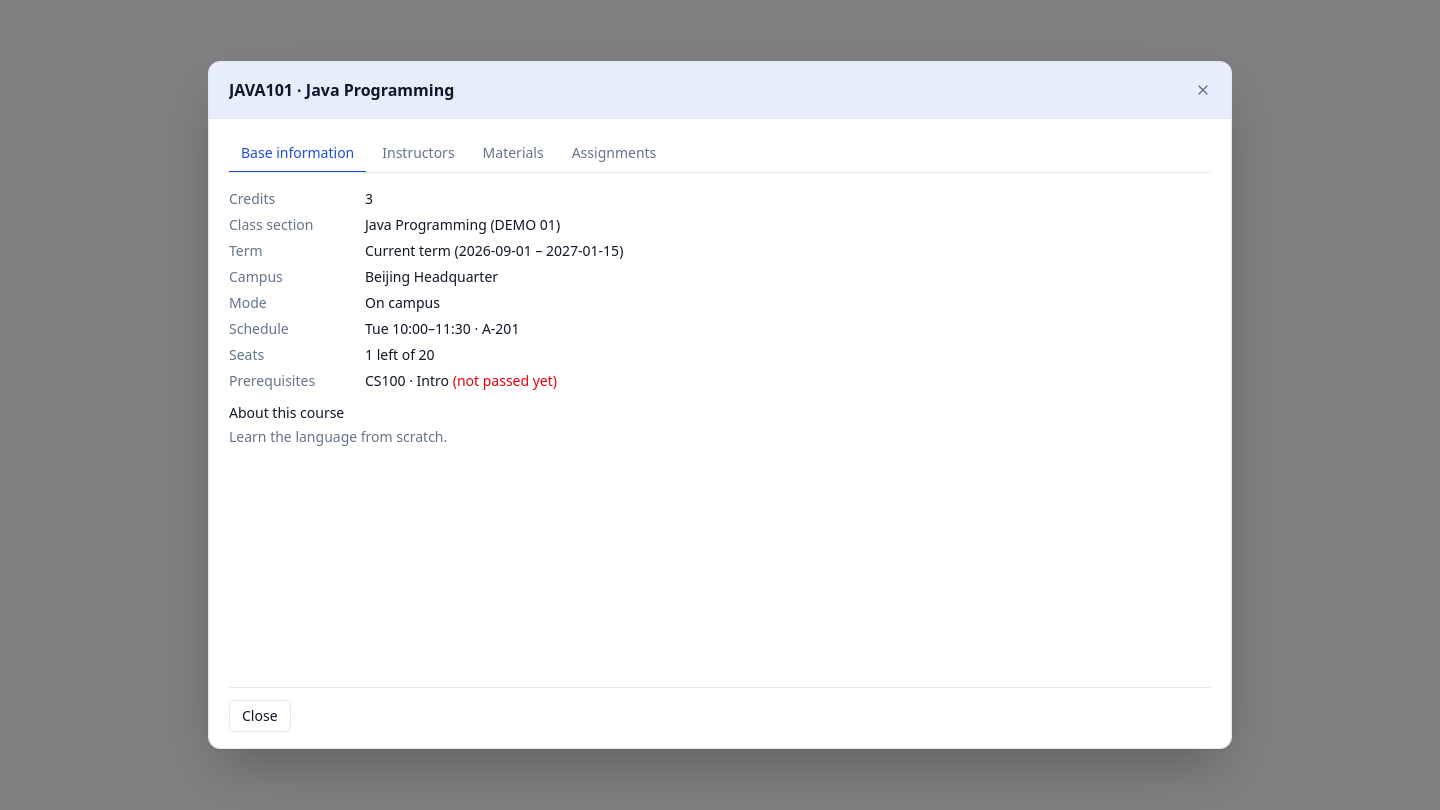
Test case: course details for students › for an enrolled class the dialog has four tabs: base information, instructors, materials and assignments of this class
Click the tab "Materials". click: (513, 154)
box: [471, 135, 556, 173]
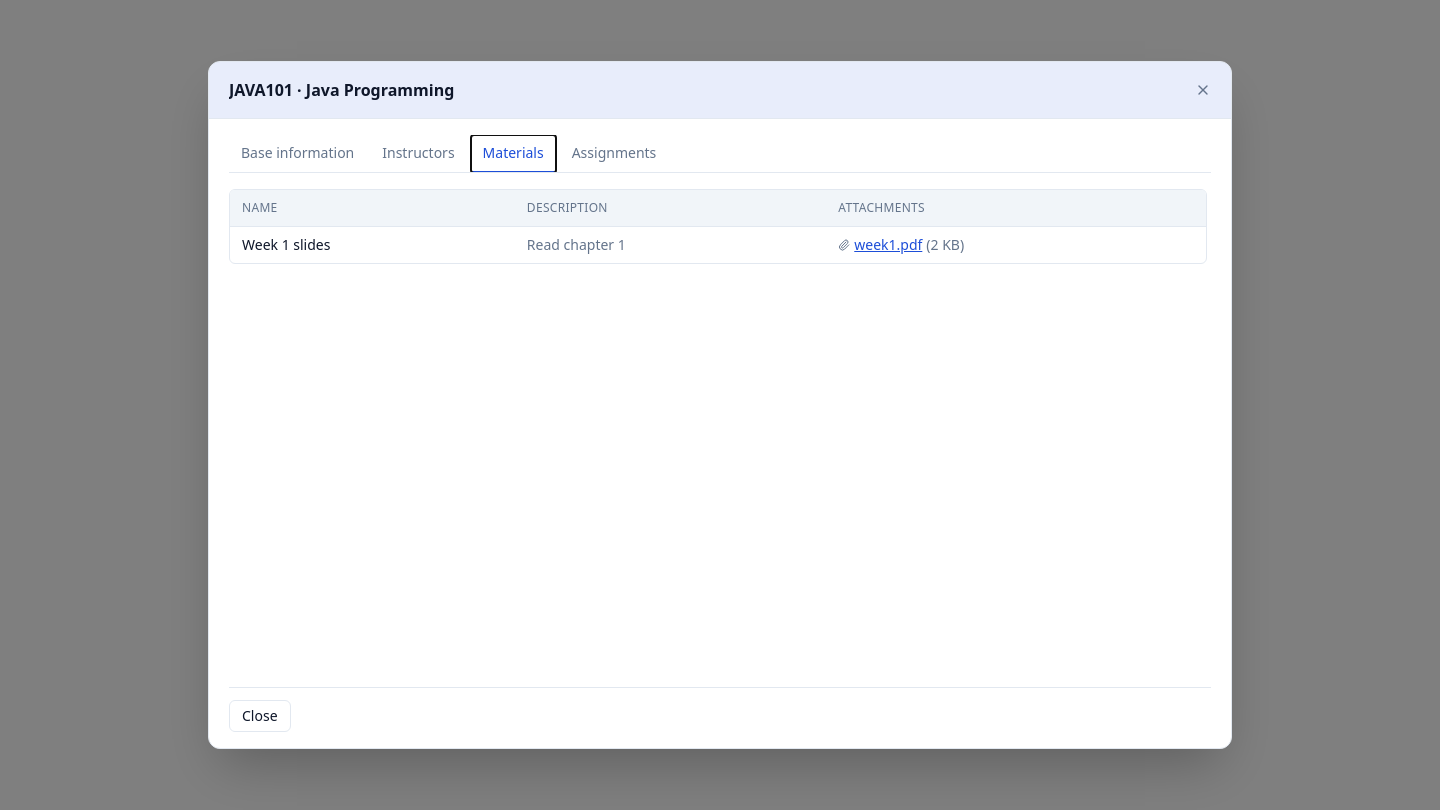
Result: the text "Week 1 slides" is shown at [242, 235, 330, 254]
Click the tab "Assignments". click: (614, 154)
box: [560, 135, 668, 173]
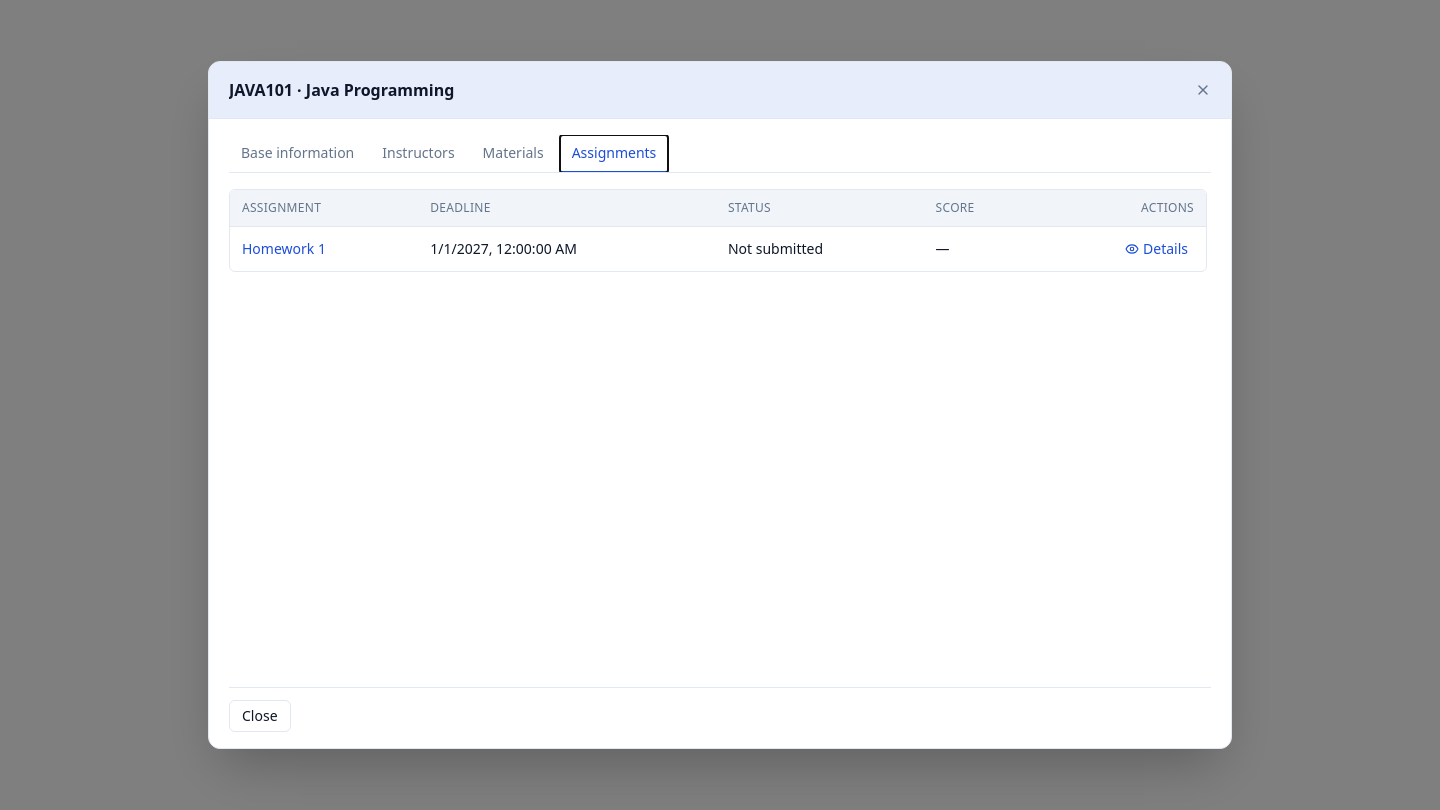
Result: the button "Homework 1" is shown
Click the button "Homework 1". click: (284, 249)
box: [242, 239, 326, 259]
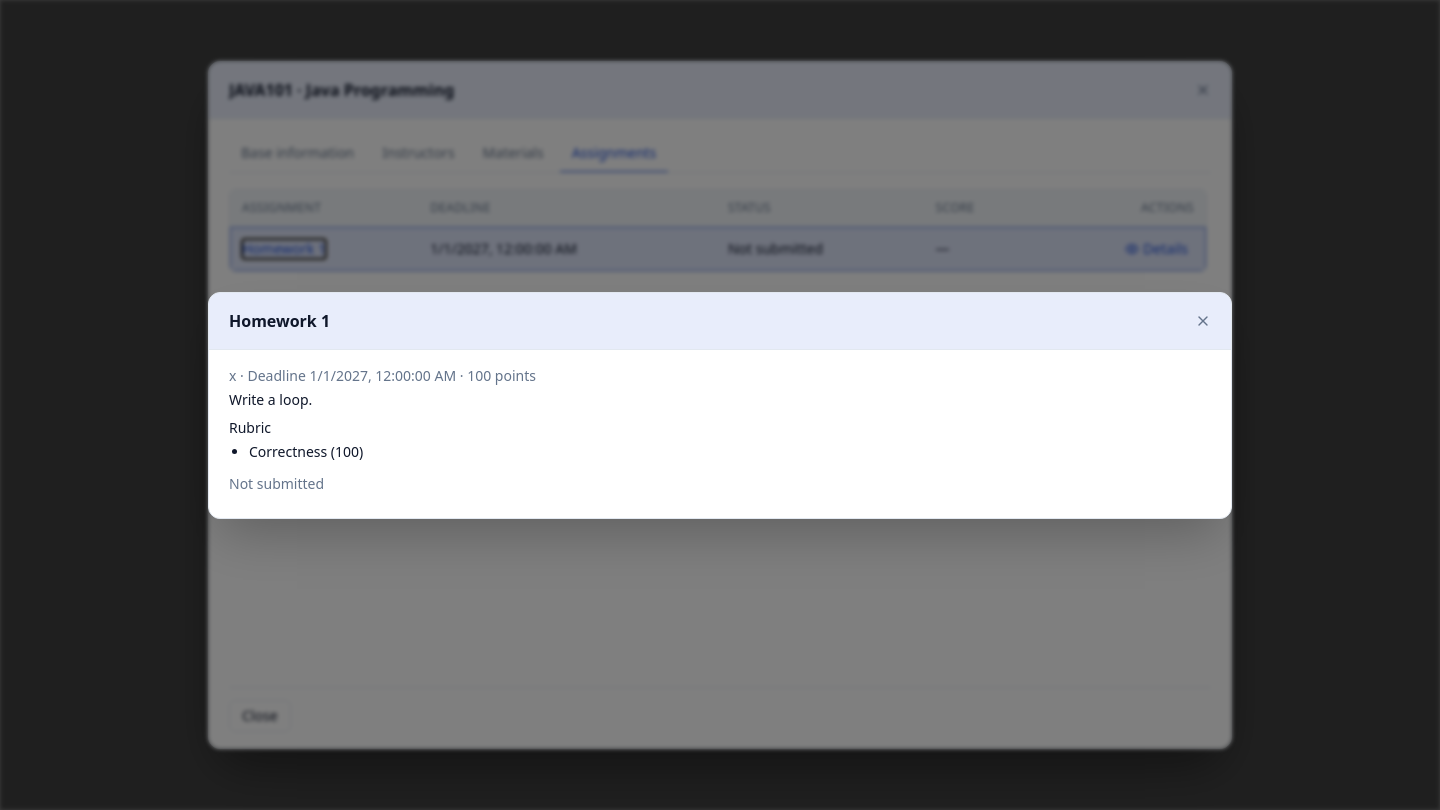
Result: the text "Write a loop." is shown at [229, 390, 312, 408]
Result: the list item "Correctness (100)" is shown at [249, 442, 363, 460]
